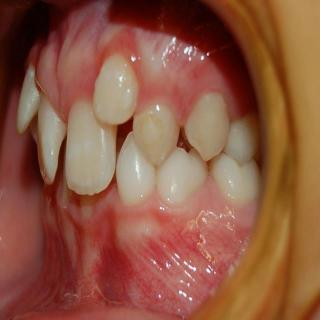maligned: (6, 60, 50, 134), (86, 47, 130, 107)
